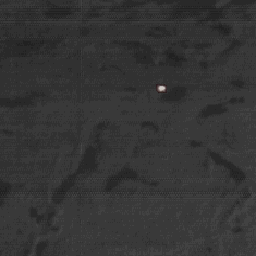Target: (156, 84, 166, 92)
